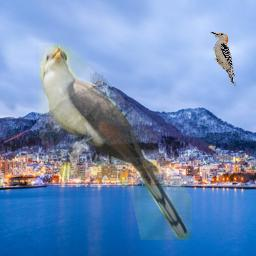Cuckoo: (39, 43, 192, 240)
Woodpecker: (210, 29, 237, 87)
